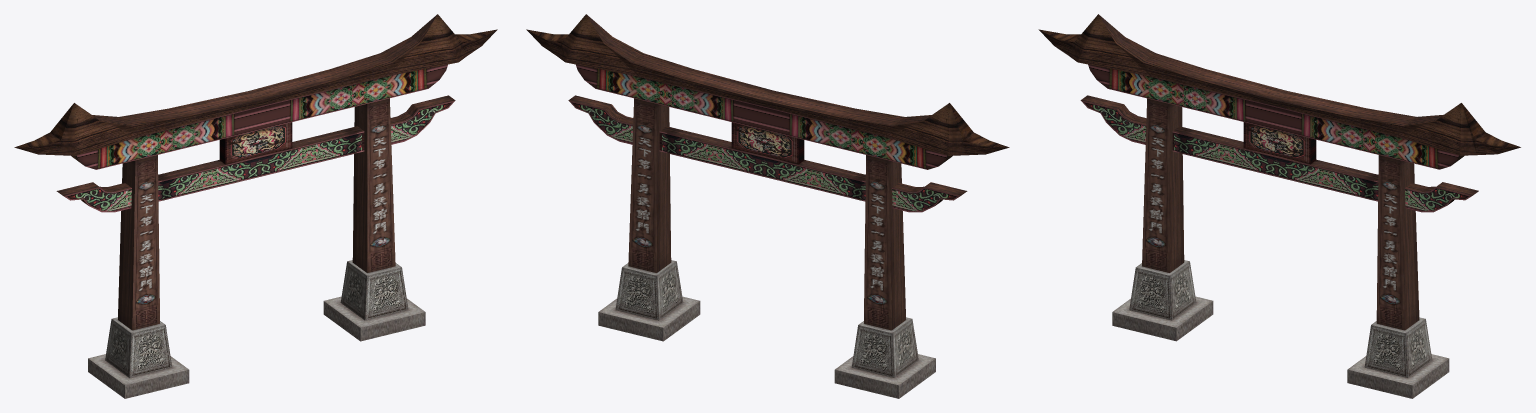
File: ob-035-woodgate.fbx
The picture shows the model from 3 angles, left to right: view 1: azimuth 30°, elevation 25°; view 2: azimuth 150°, elevation 25°; view 3: azimuth 330°, elevation 25°; orthographic projection.
Visible parts, largest first — view 1: ob-035-woodgate; view 2: ob-035-woodgate; view 3: ob-035-woodgate.
Part boxes in pixels (x1,y1,x2,y2): ob-035-woodgate: (14,14,497,398); ob-035-woodgate: (526,14,1009,398); ob-035-woodgate: (1038,14,1520,398).
Size of the model in its own units: 14.4 by 8.27 by 1.91.
